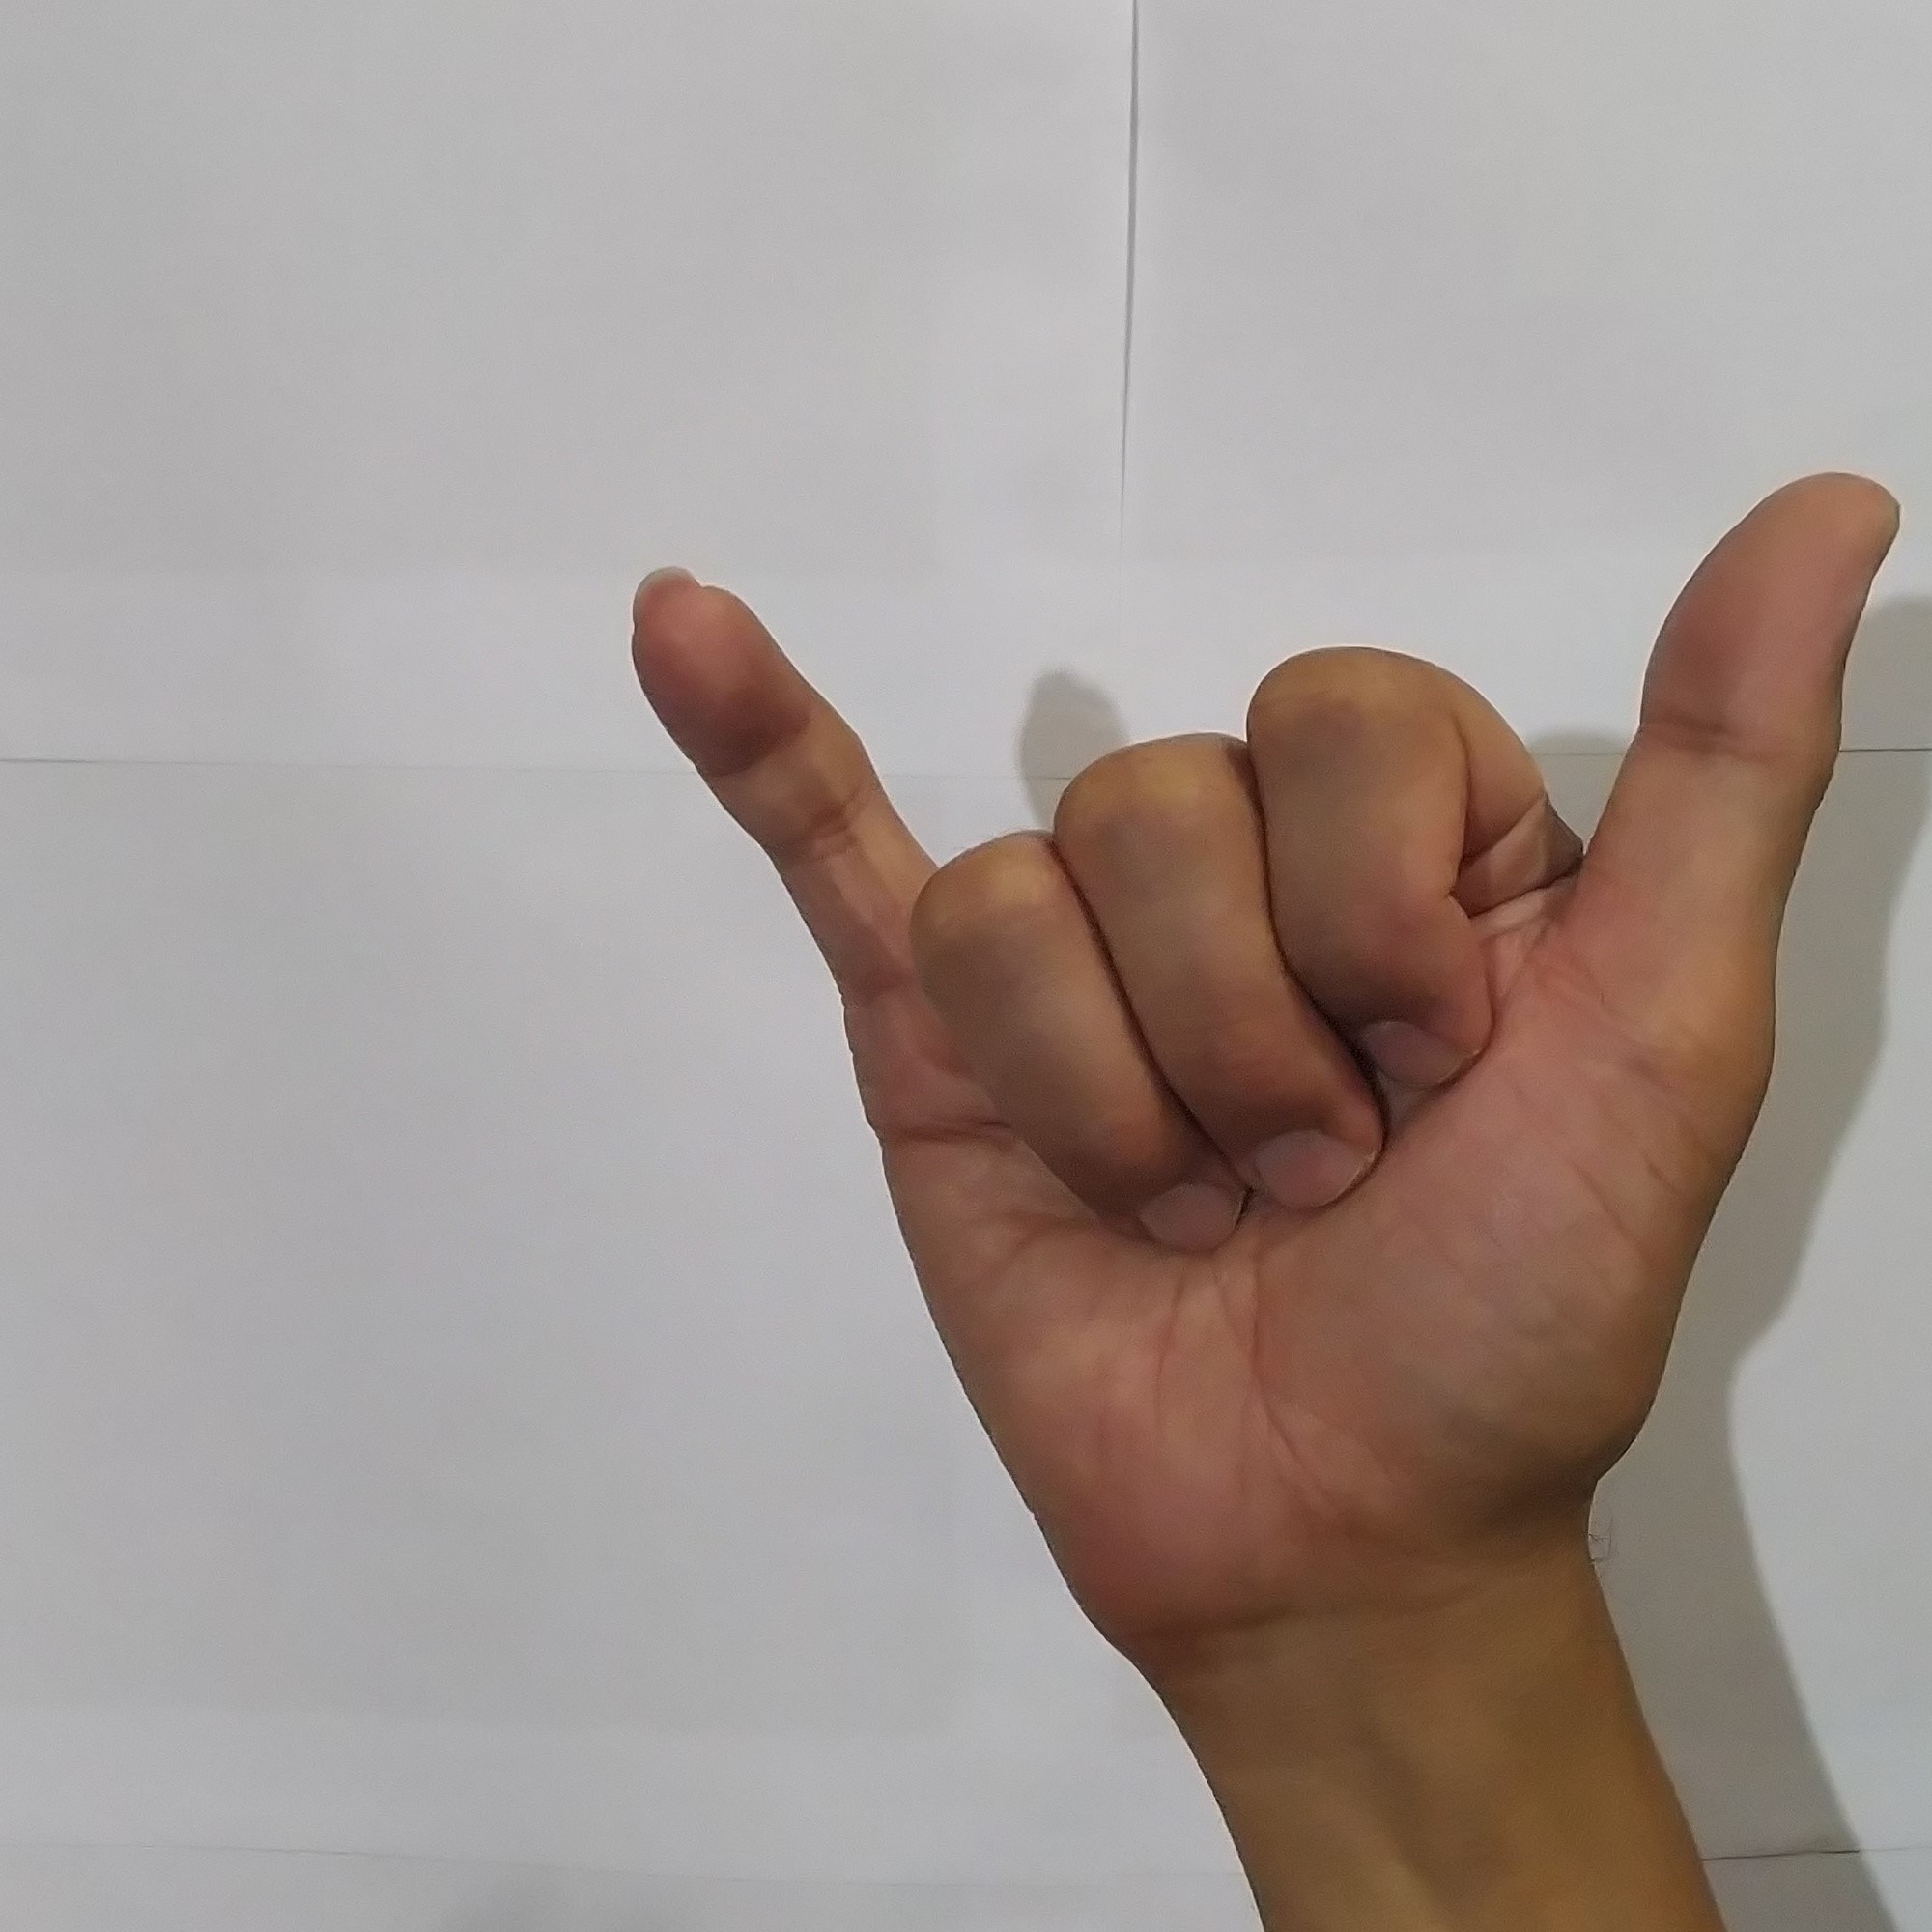Y: (598, 439, 1916, 1622)
